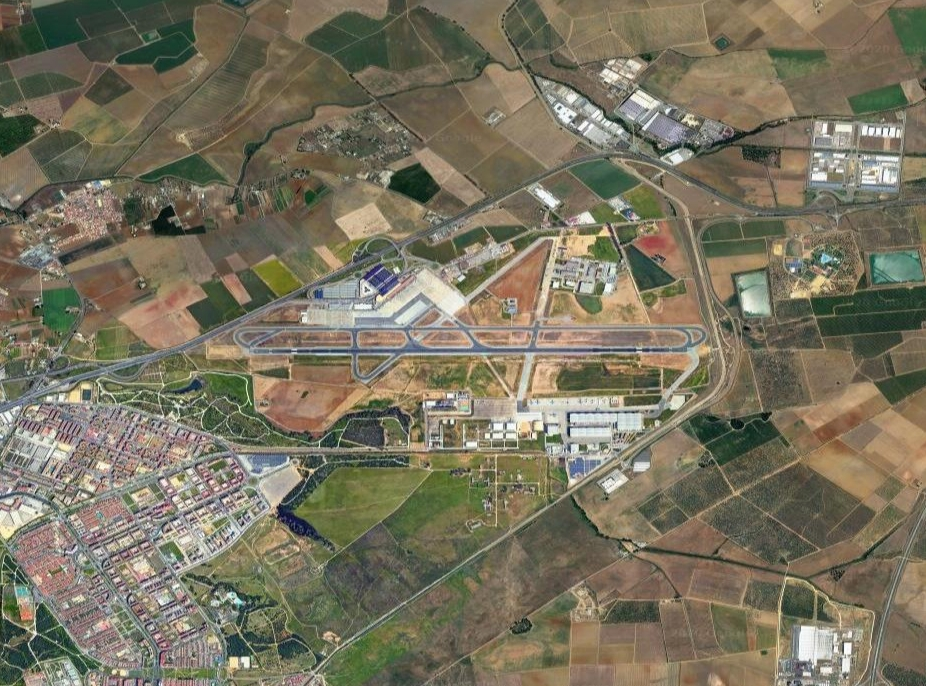airport: (232, 234, 709, 453)
motorway: (152, 320, 230, 359), (82, 347, 151, 381), (347, 235, 403, 273), (701, 183, 757, 214), (711, 313, 729, 405), (669, 389, 715, 423), (625, 423, 671, 457), (403, 215, 451, 245), (452, 193, 500, 223), (500, 170, 548, 200), (321, 631, 362, 664), (361, 600, 402, 633), (400, 574, 441, 607), (444, 546, 485, 579), (483, 521, 524, 554), (525, 490, 566, 523), (658, 163, 702, 192), (235, 293, 286, 317), (548, 150, 601, 173), (602, 146, 655, 169), (754, 200, 814, 220), (814, 197, 874, 217), (903, 505, 926, 552), (884, 551, 907, 598), (872, 597, 895, 644), (874, 191, 926, 208), (865, 645, 885, 685), (285, 278, 314, 300), (316, 264, 345, 286)
